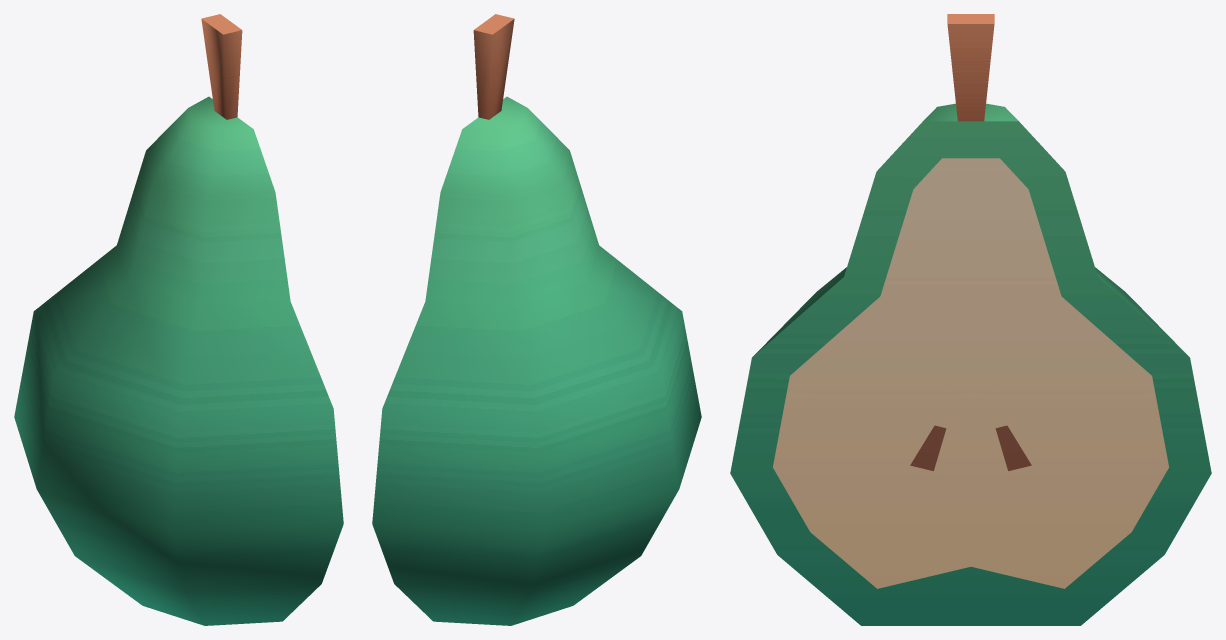
The model's file is pear-half.glb.
The picture shows the model from 3 angles, left to right: view 1: azimuth 30°, elevation 25°; view 2: azimuth 150°, elevation 25°; view 3: azimuth 270°, elevation 25°; orthographic projection. The views are drawn at different scales.
Parts seen in each view (by area): view 1: pear-half; view 2: pear-half; view 3: pear-half.
Boxes of the visible parts, bbox=[...] form: pear-half: bbox=[14, 14, 343, 625]; pear-half: bbox=[372, 14, 701, 625]; pear-half: bbox=[730, 14, 1211, 625].
Size of the model in its own units: 0.0981 by 0.2708 by 0.1963.
1 material, 1 textured.
